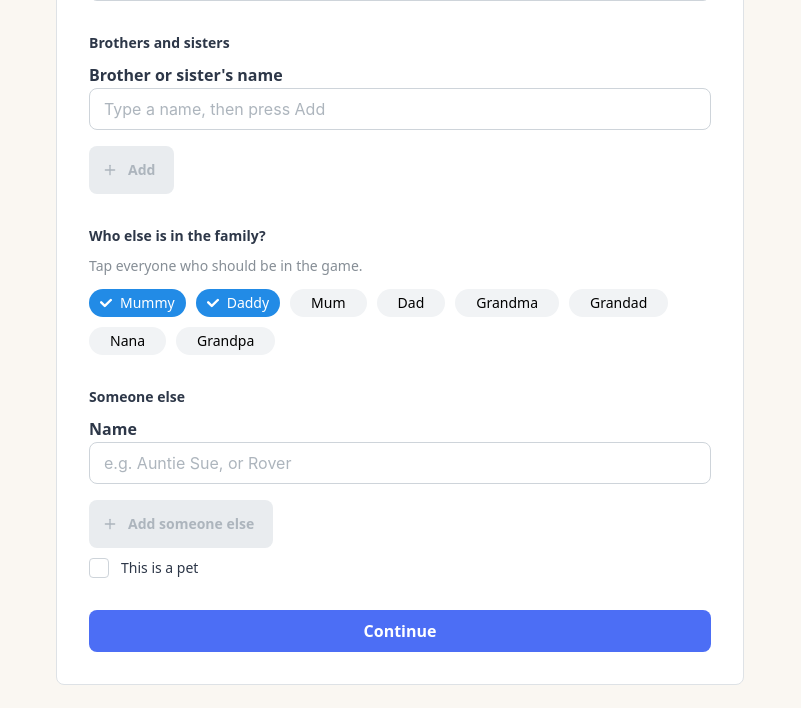
Test: Voice studio › finish › shows the family code and the play, connect and dashboard links once chapter 1 is done
(page scrolled)
Step 1. Click the button "Continue" → (400, 631), box [89,610,711,652]
(page scrolled)
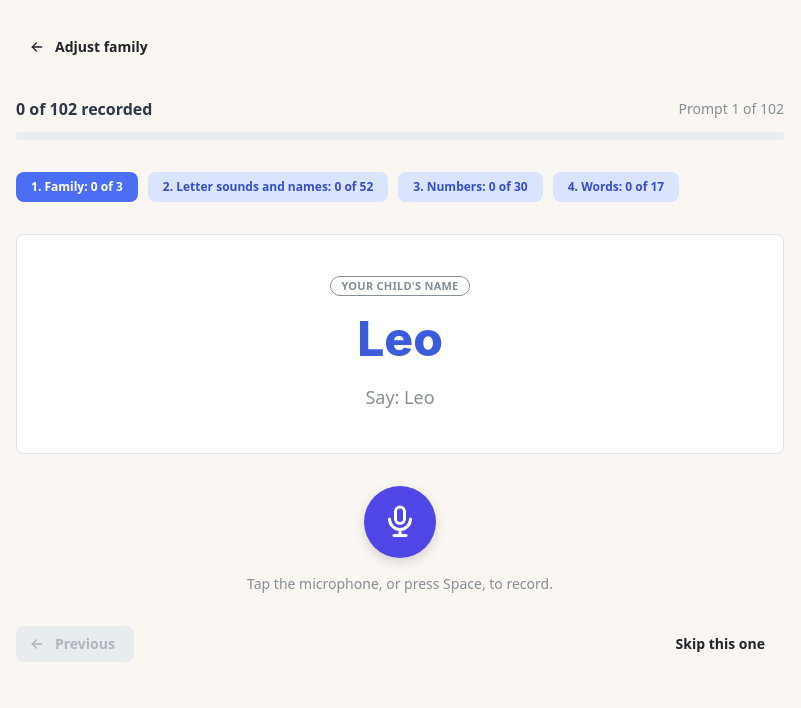
Check: the button "I'll finish later" is not shown
Check: the element with test id "prompt-card" is shown, box [16,234,784,454]
Step 2. Click the button "Skip this one" → (720, 644), box [656,626,784,662]
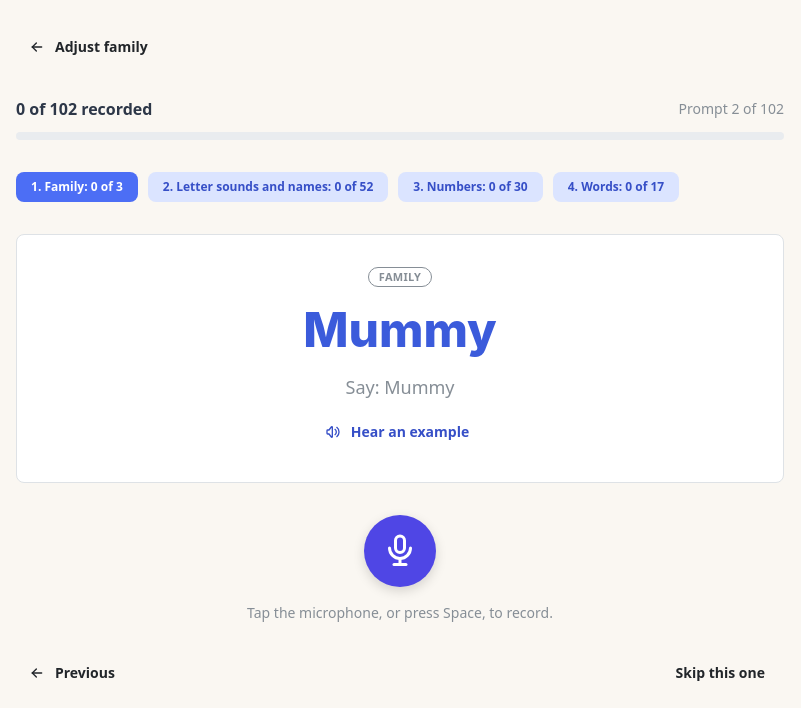
Check: the element with test id "prompt-card" is shown, box [16,234,784,483]
Step 3. Click the button "Skip this one" → (720, 673), box [656,655,784,691]
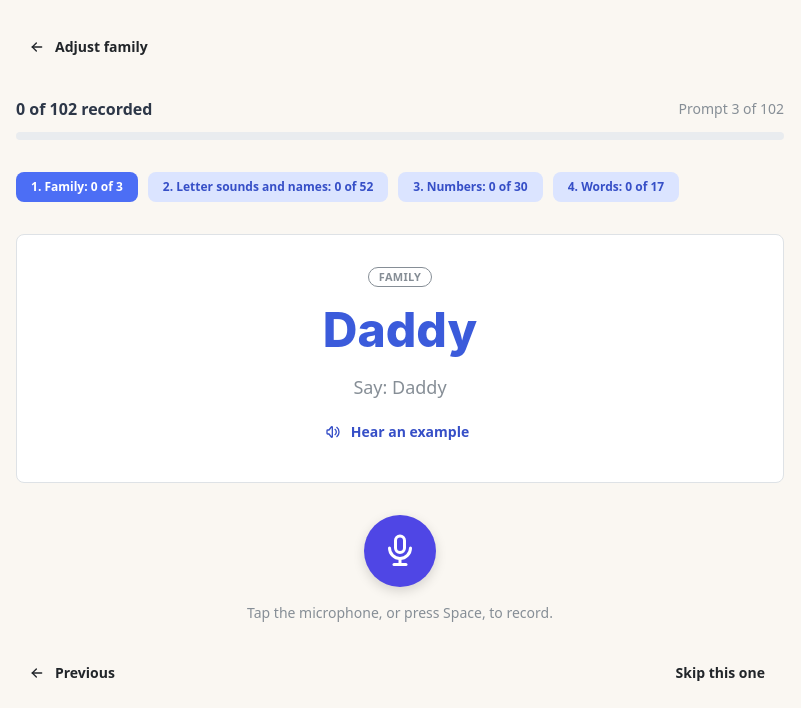
Check: the element with test id "prompt-card" is shown, box [16,234,784,483]
Step 4. Click the button "Skip this one" → (720, 673), box [656,655,784,691]
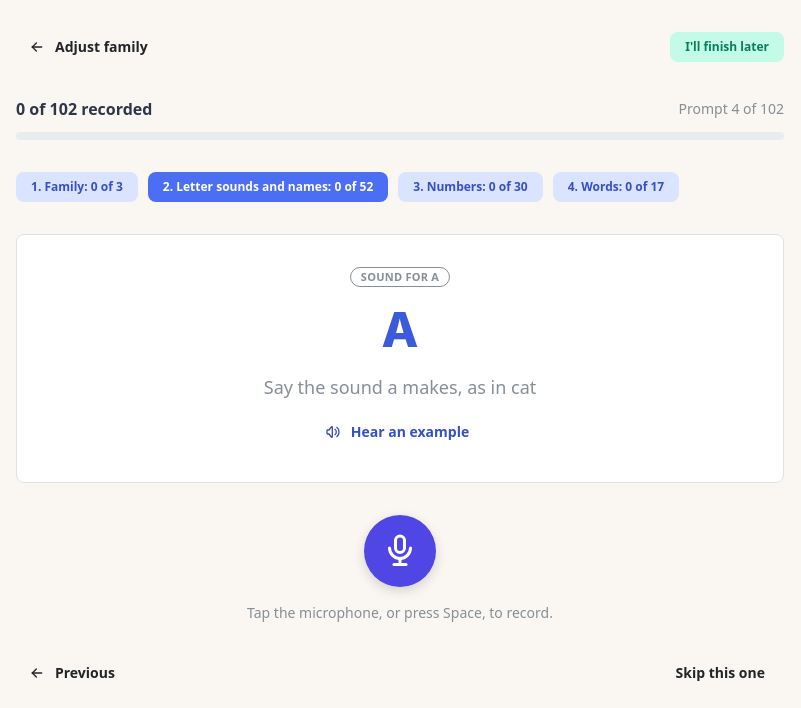
Check: the element with test id "prompt-card" is shown, box [16,234,784,483]
Step 5. Click the button "I'll finish later" → (727, 47), box [670,32,784,62]
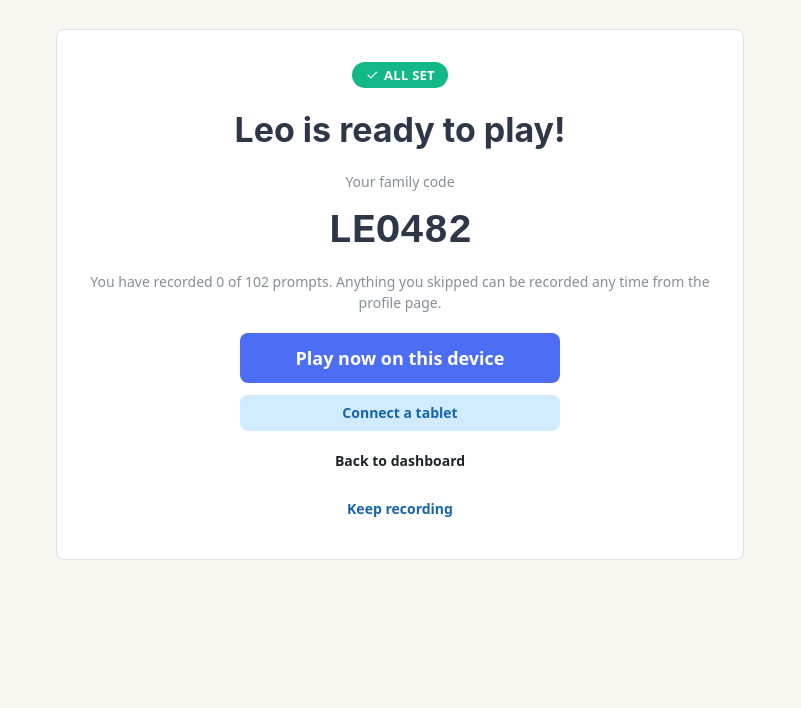
Check: the heading "Leo is ready to play!" is shown, box [234,108,566,152]
Check: the text with test id "play-code" reads "LEO482", box [328,210,472,254]
